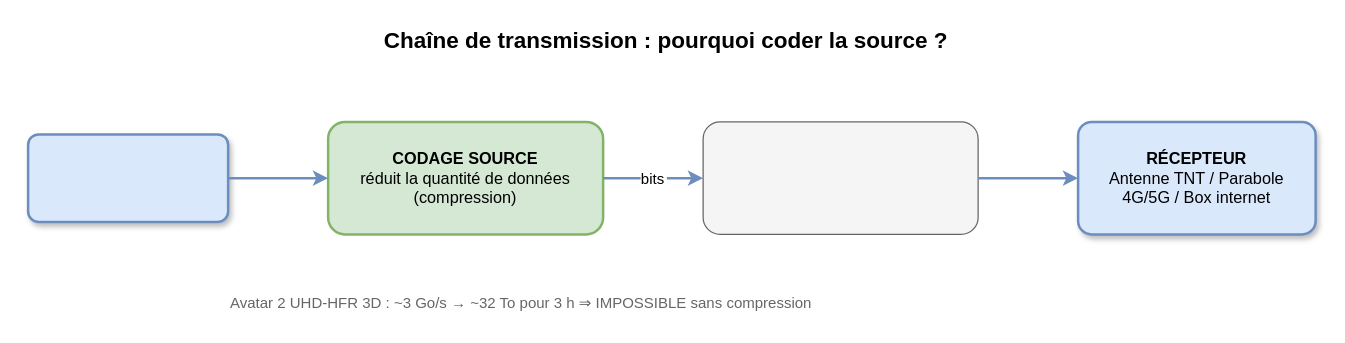
Some shapes in this 1345 by 343 pixel diagram are drawn without their labels. Each missing label, with the centre of its shape:
CANAL DE PROPAGATION Air / Câble …01000101011101…: (x=840, y=177)
SOURCE Texte / Image / Vidéo: (x=128, y=179)
